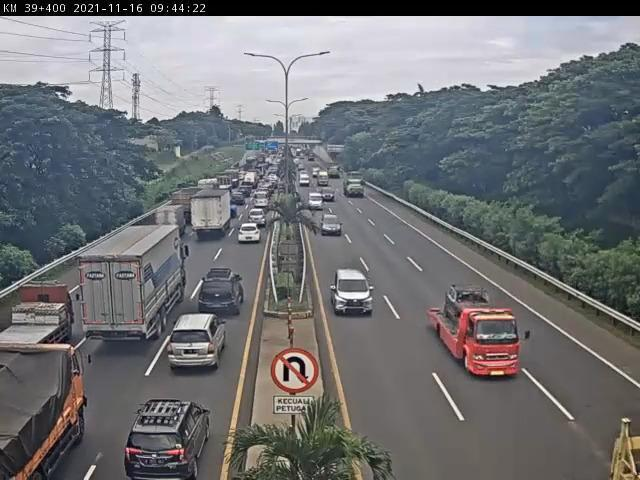car: (126, 399, 214, 480), (169, 313, 230, 370), (201, 270, 246, 321), (333, 268, 378, 316), (321, 214, 345, 241), (239, 224, 263, 247), (250, 210, 269, 228)
truck: (78, 226, 190, 345), (2, 342, 93, 480), (431, 283, 532, 381), (1, 276, 81, 365), (191, 189, 233, 241), (155, 205, 187, 237), (344, 172, 367, 199)
